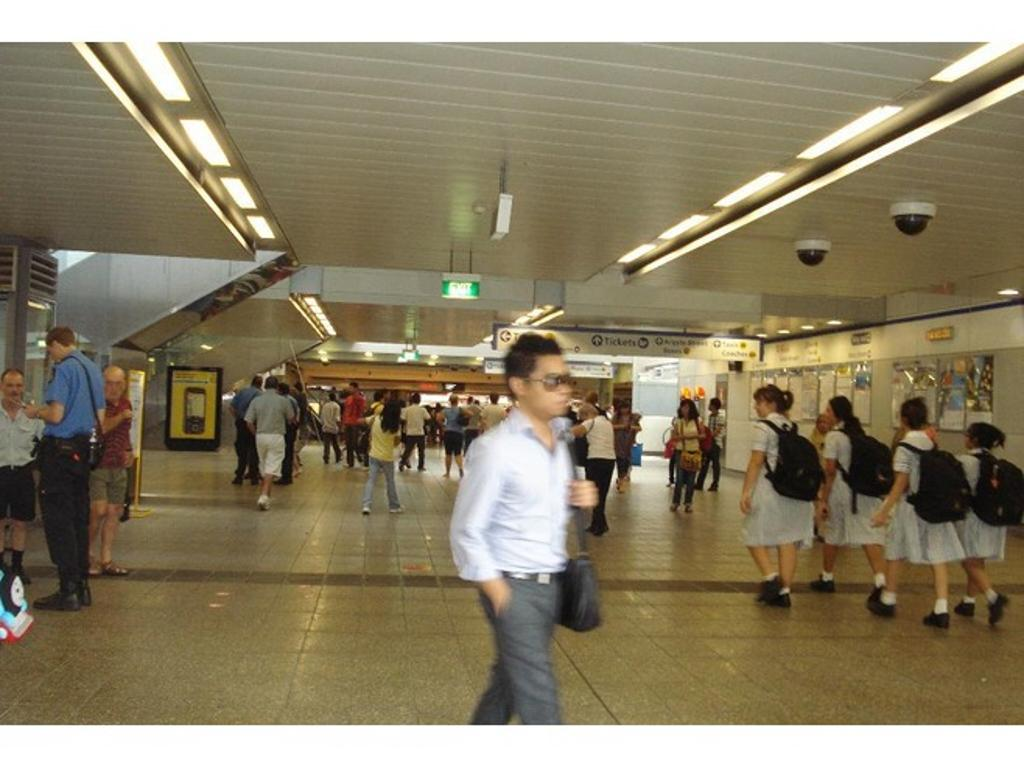face: (525, 355, 571, 414), (104, 373, 124, 399), (5, 375, 21, 402), (753, 396, 767, 417), (45, 340, 60, 359), (825, 406, 838, 424), (964, 429, 976, 447), (817, 416, 828, 430), (579, 410, 590, 419), (621, 405, 628, 414), (682, 405, 688, 415), (708, 401, 714, 410), (349, 384, 354, 391)
